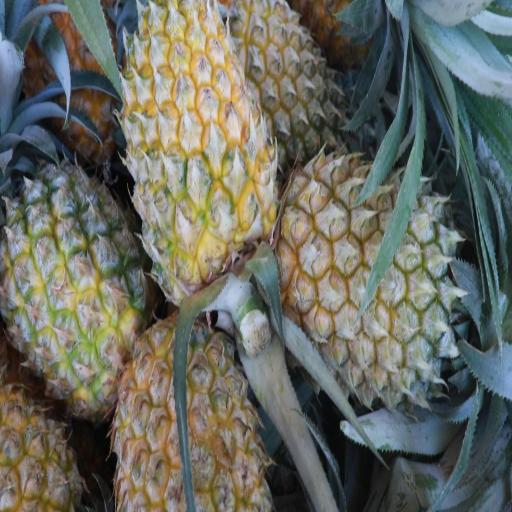------------------------------: (113, 317, 255, 512)
Pineapple - v8 v1: (119, 2, 274, 290), (5, 158, 142, 402)
